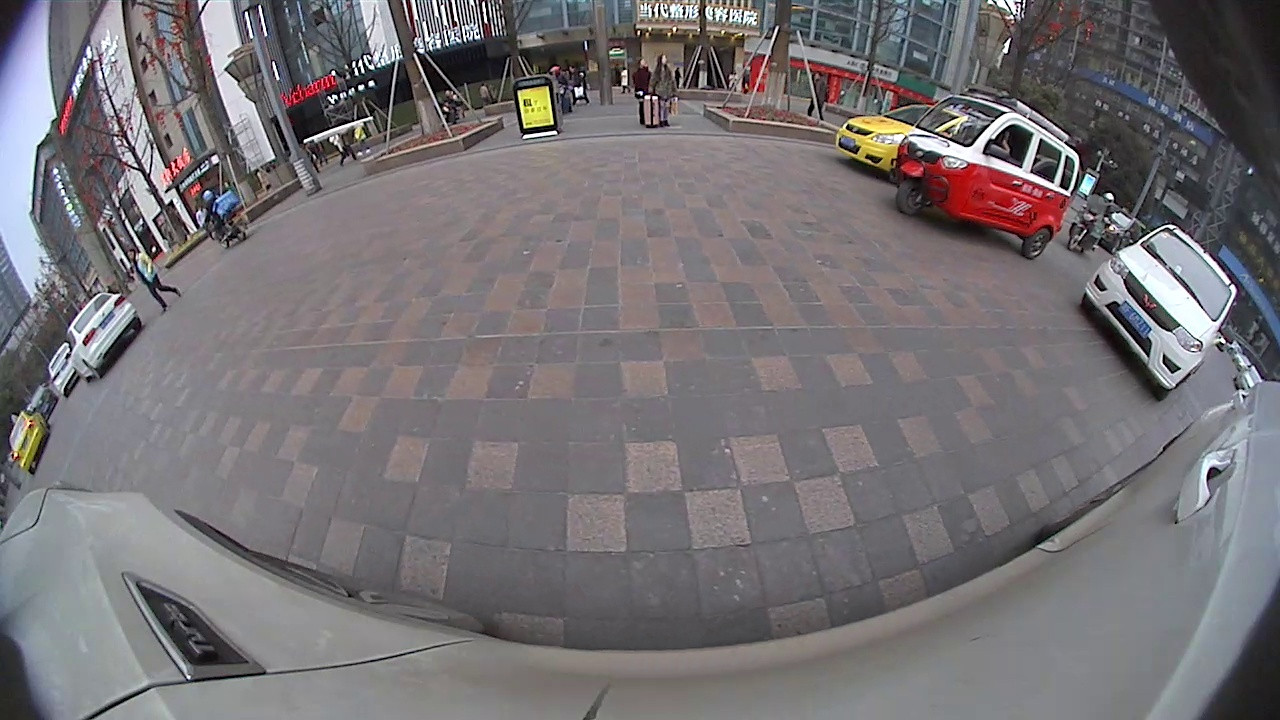car: (1079, 220, 1243, 404), (833, 100, 945, 177), (63, 289, 144, 384), (6, 405, 53, 475), (45, 339, 93, 401)
front: (893, 176, 929, 218)
person: (128, 247, 151, 312), (631, 59, 651, 125), (655, 53, 672, 127)
rear: (1019, 224, 1055, 263)
rider: (892, 82, 1085, 261), (199, 186, 246, 246)
